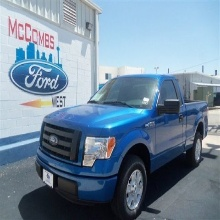no damage: (35, 73, 209, 217)
